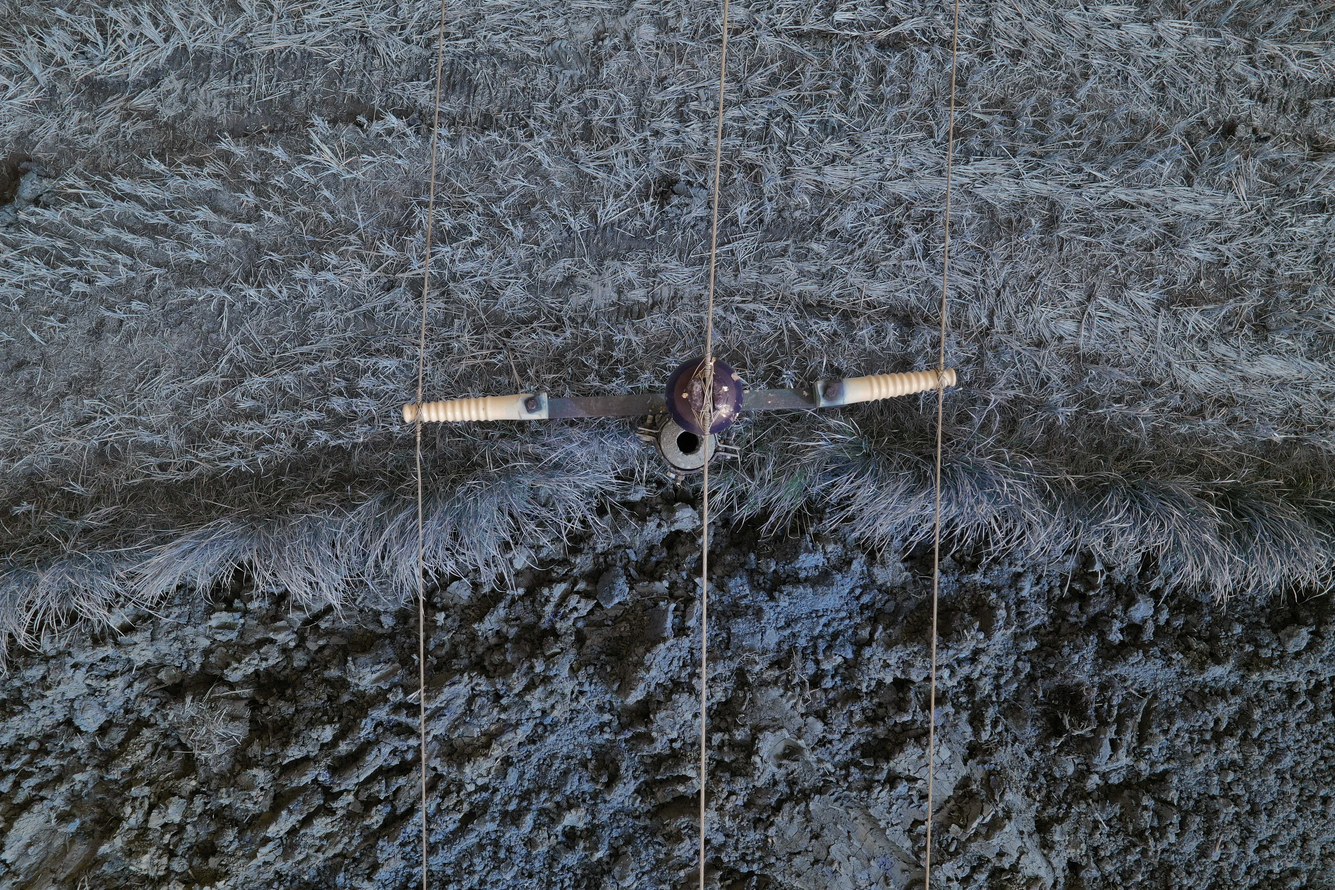severe_soiling_no_discharge_whole: (663, 354, 746, 439)
